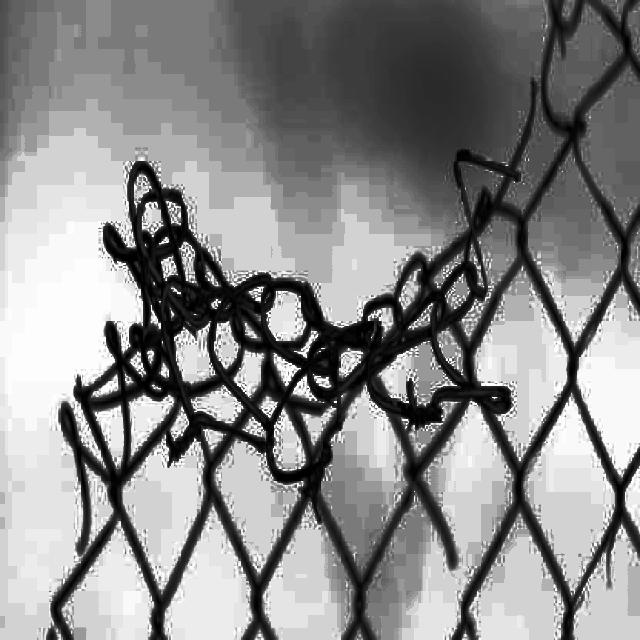anomaly-fence: (0, 9, 551, 638)
